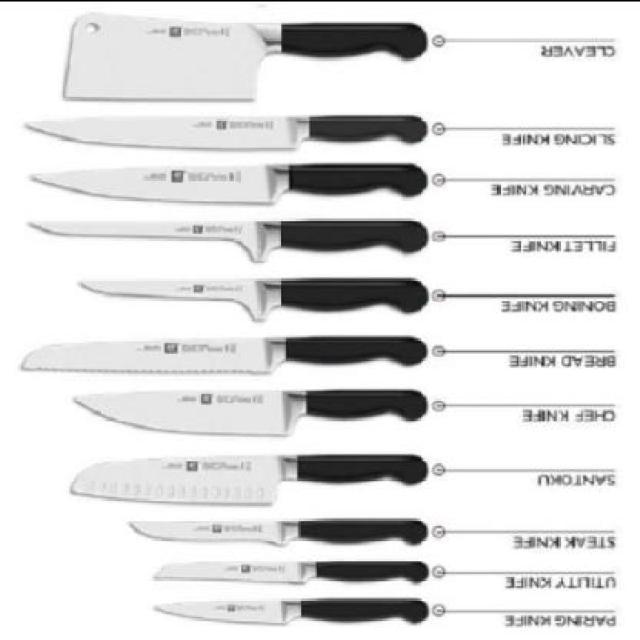weapon: (61, 11, 426, 100), (68, 452, 428, 506), (26, 216, 428, 262), (29, 162, 428, 205), (72, 388, 426, 436), (19, 334, 427, 374), (77, 274, 428, 320), (22, 113, 428, 150), (128, 517, 428, 545), (152, 597, 428, 626), (152, 558, 428, 584)
